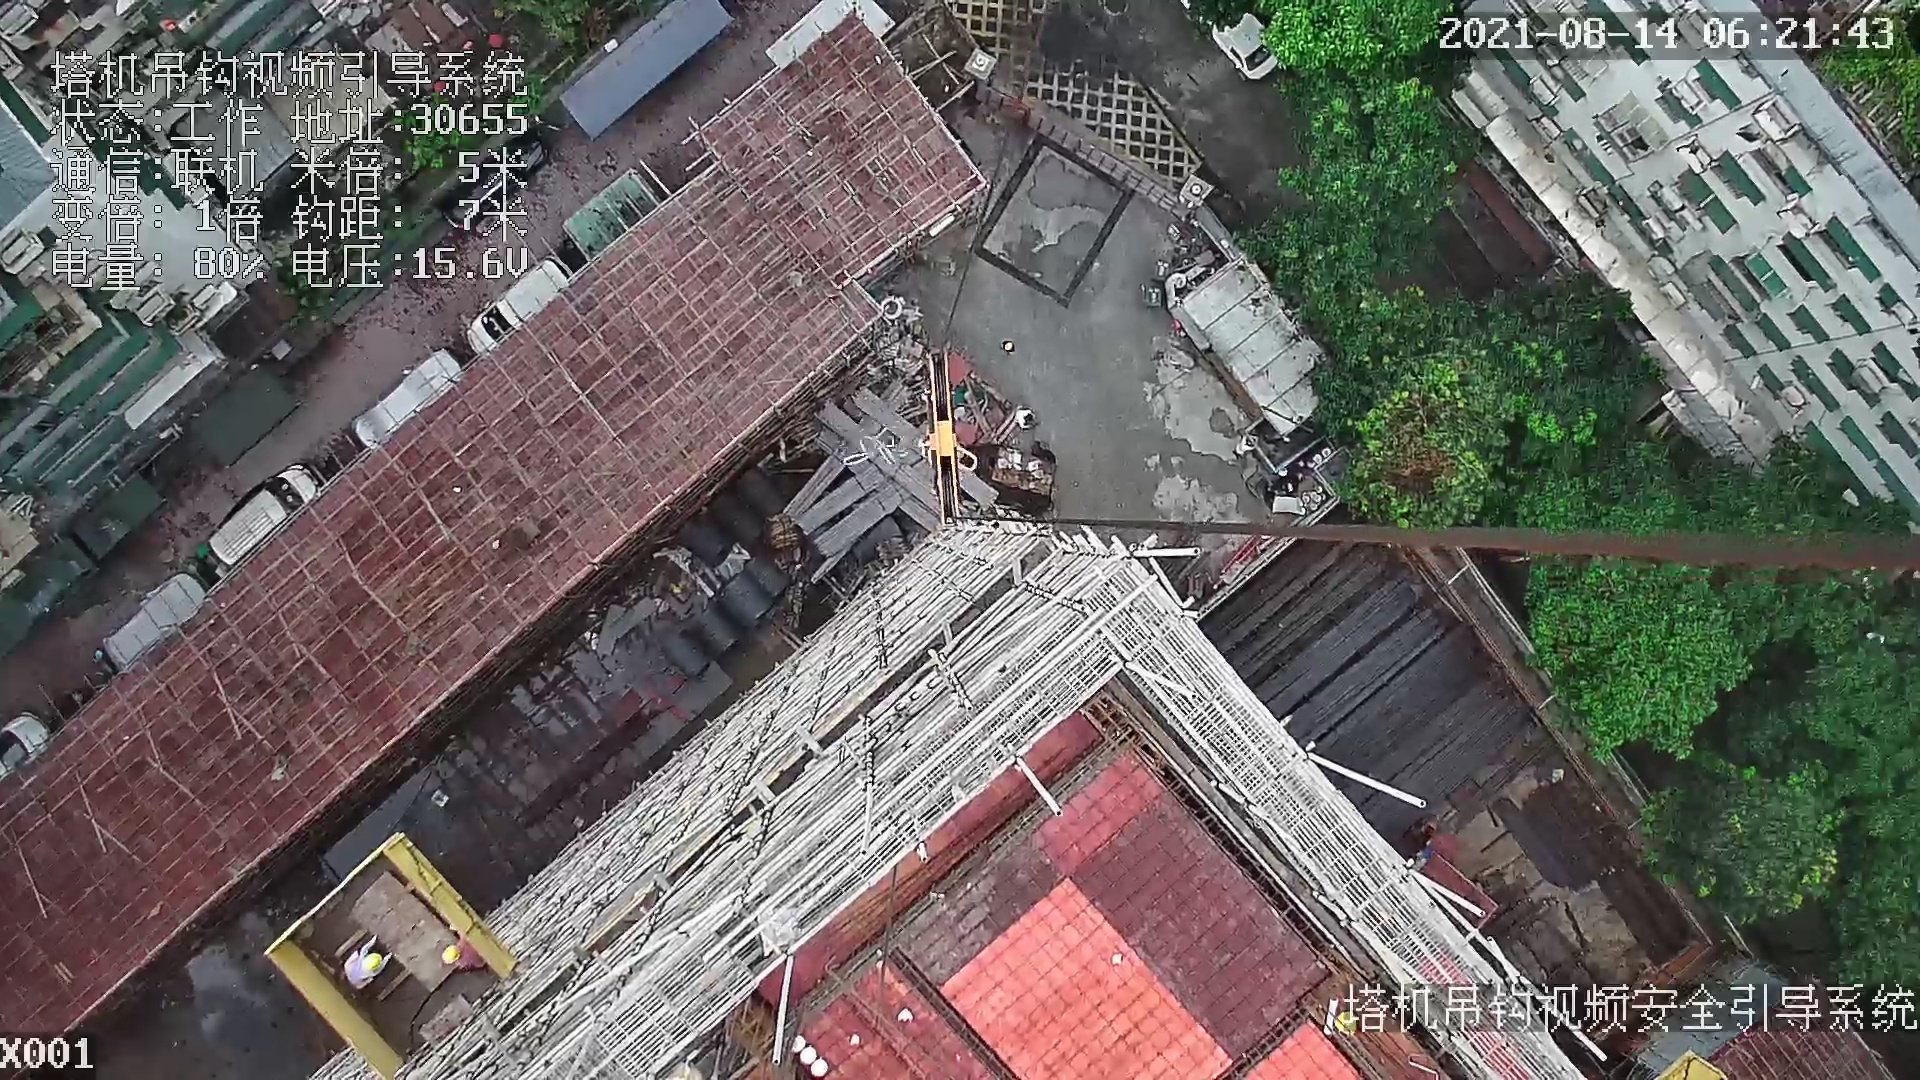helmet: (440, 944, 461, 966), (362, 953, 382, 974)
hook: (919, 350, 990, 530)
person: (440, 935, 501, 978), (336, 944, 406, 981)
rebar: (1246, 529, 1513, 808)
